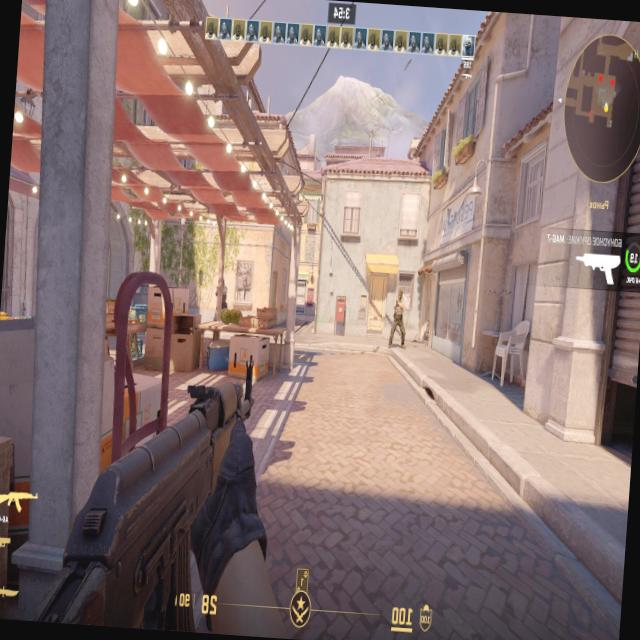T: (391, 292, 404, 341)
T_heat: (397, 293, 404, 302)
